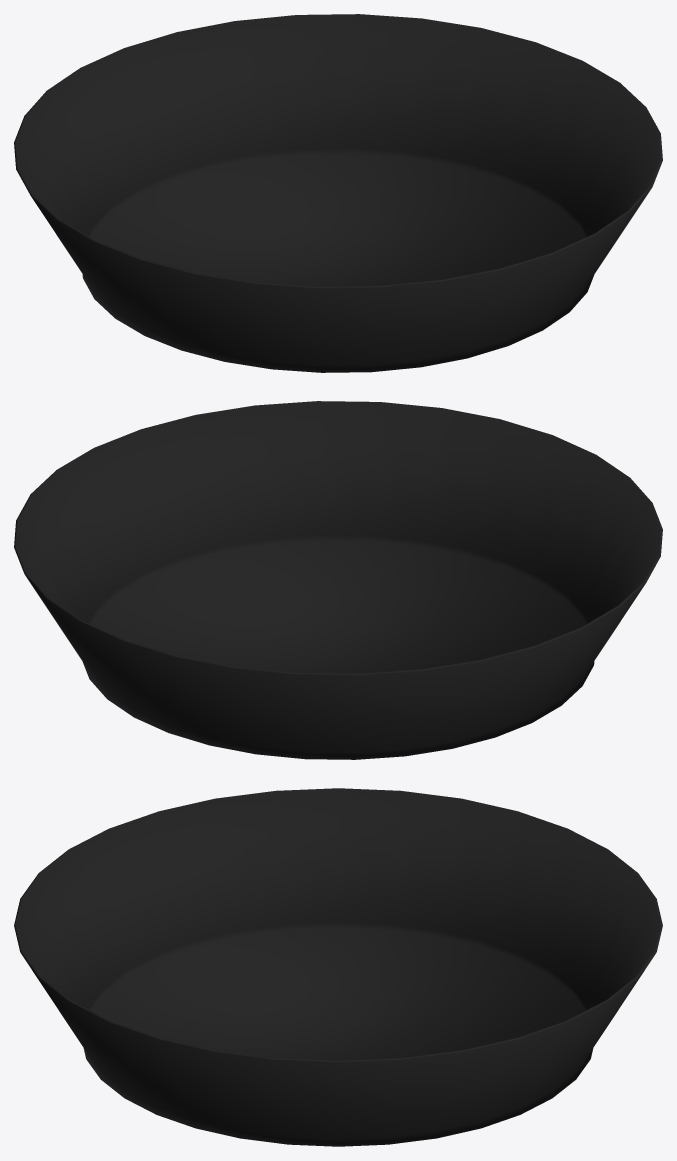
Rendered from Skål.fbx.
The picture shows the model from 3 angles, top to bottom: view 1: azimuth 30°, elevation 25°; view 2: azimuth 150°, elevation 25°; view 3: azimuth 270°, elevation 25°; orthographic projection.
Parts seen in each view (by area): view 1: Circle; view 2: Circle; view 3: Circle.
Part boxes in pixels (x1,y1,x2,y2): Circle: [14, 14, 662, 372]; Circle: [14, 401, 662, 759]; Circle: [14, 788, 662, 1146].
Size of the model in its own units: 102 by 19.61 by 102.
